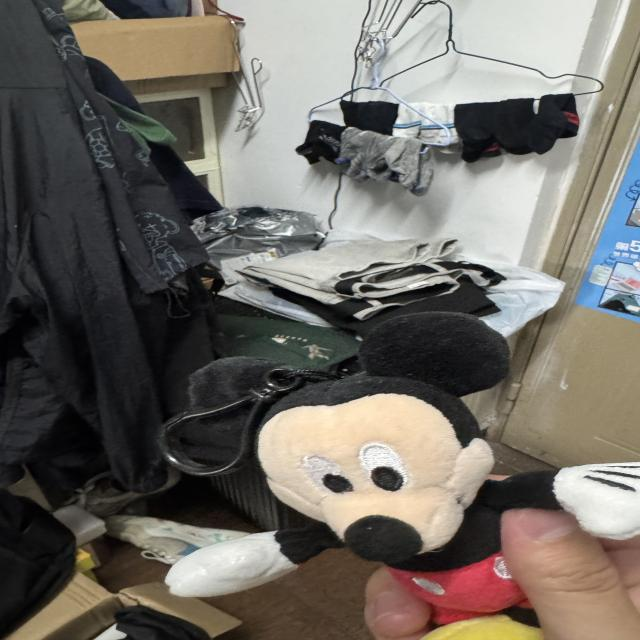mickey: (167, 313, 639, 625)
